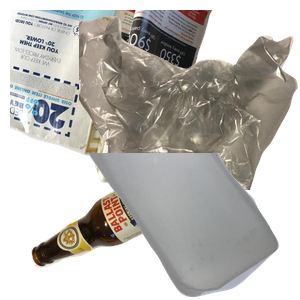glass: (29, 150, 238, 300)
paper: (10, 10, 215, 186)
plastic: (84, 153, 300, 300)
trash: (79, 14, 300, 194)
